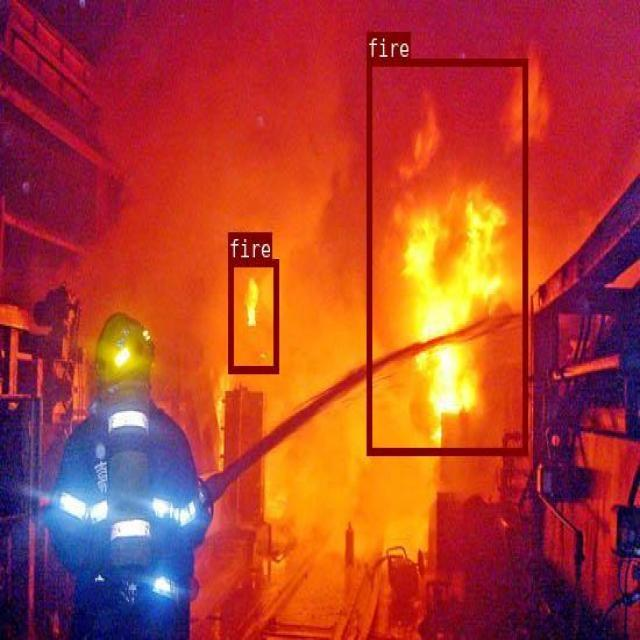fire: (366, 58, 527, 454), (228, 259, 277, 372)
